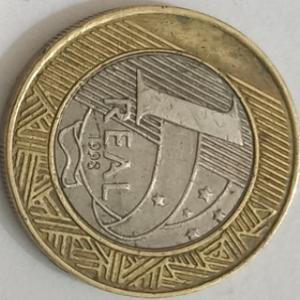1 real: (1, 3, 299, 298)
